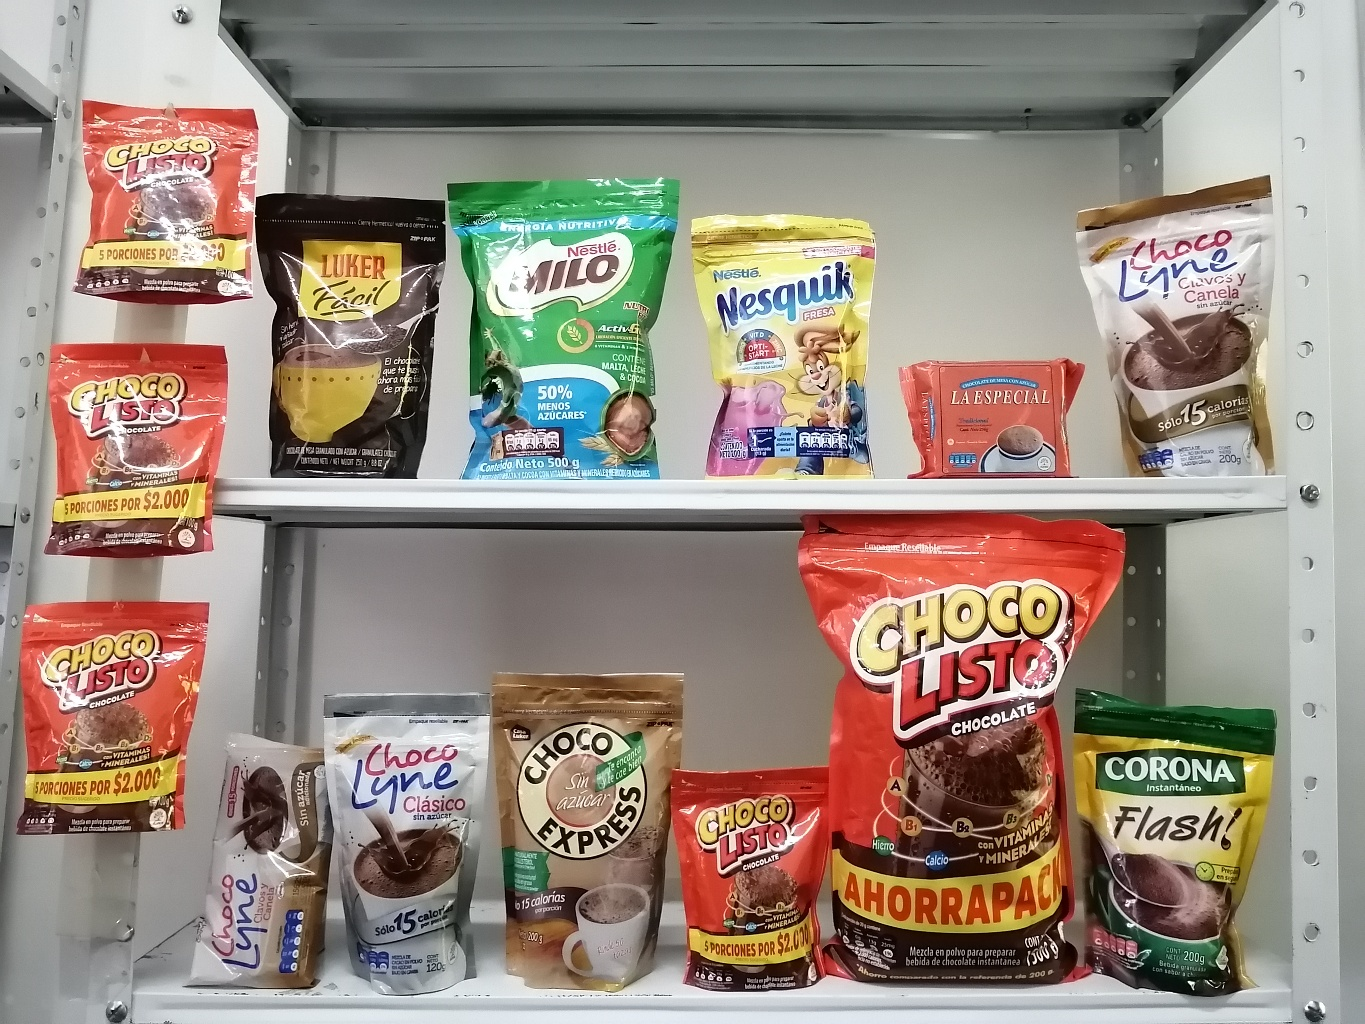COL0170103DYP1,500: (808, 520, 1124, 983)
COL0170205DYP50000: (443, 175, 693, 480)
COL0170305DYP20000: (696, 207, 888, 474)
